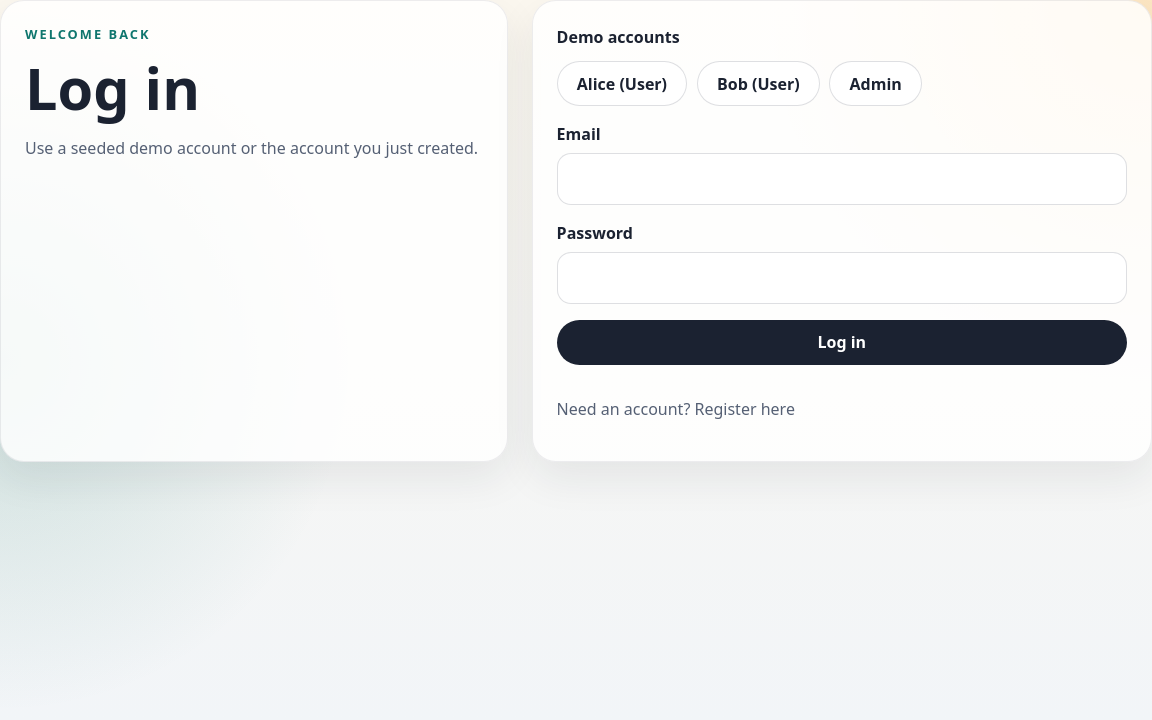
LoginPage › fills the form when {"label":"Alice (User)","email":"alice@example.com","password":"Password123!"} is selected
Step 1. Click the button "Alice (User)" → (622, 84), box [557,61,687,106]
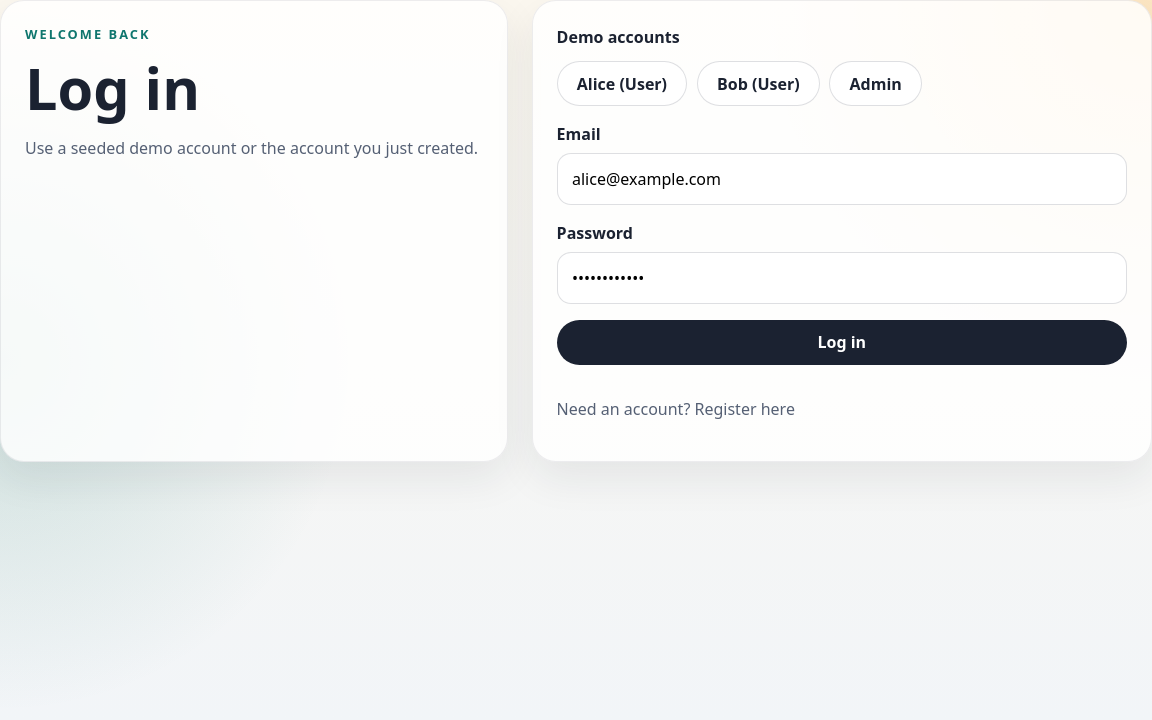
Expected: the field labelled "Email" holds "alice@example.com", [557,153,1127,205]
Expected: the password field labelled "Password" holds "Password123!", [557,252,1127,304]
